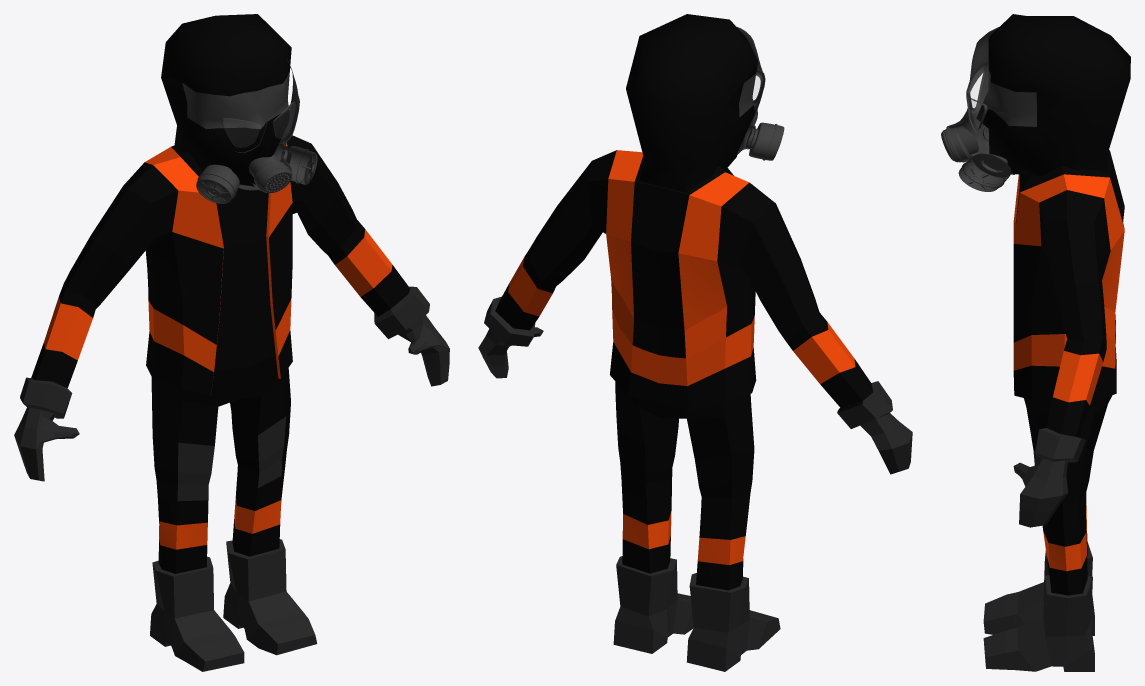
File: Pyroman (4).fbx
The picture shows the model from 3 angles, left to right: view 1: azimuth 30°, elevation 25°; view 2: azimuth 150°, elevation 25°; view 3: azimuth 270°, elevation 25°; orthographic projection.
Visible parts, largest first — view 1: Character; view 2: Character; view 3: Character.
Boxes of the visible parts, x1=… form: Character: x1=14, y1=14, x2=449, y2=671; Character: x1=478, y1=14, x2=912, y2=671; Character: x1=941, y1=14, x2=1130, y2=671.
Size of the model in its own units: 120 by 165 by 45.74.
